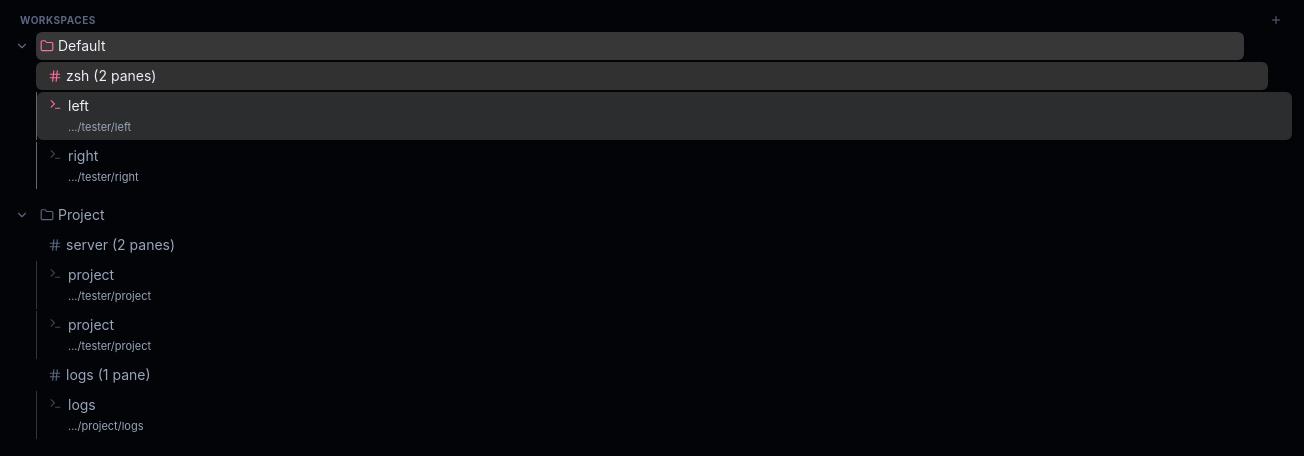
Test: WorkspacesView › Pane context menu (Create Tab from Pane) › shows an enabled action for a pane in a multi-pane tab
The width and height of the screenshot is (1304, 456).
// the non-active pane row is right-clicked.
Right-click the button "right .../tester/right" at (83, 155), box [37, 142, 1292, 189]
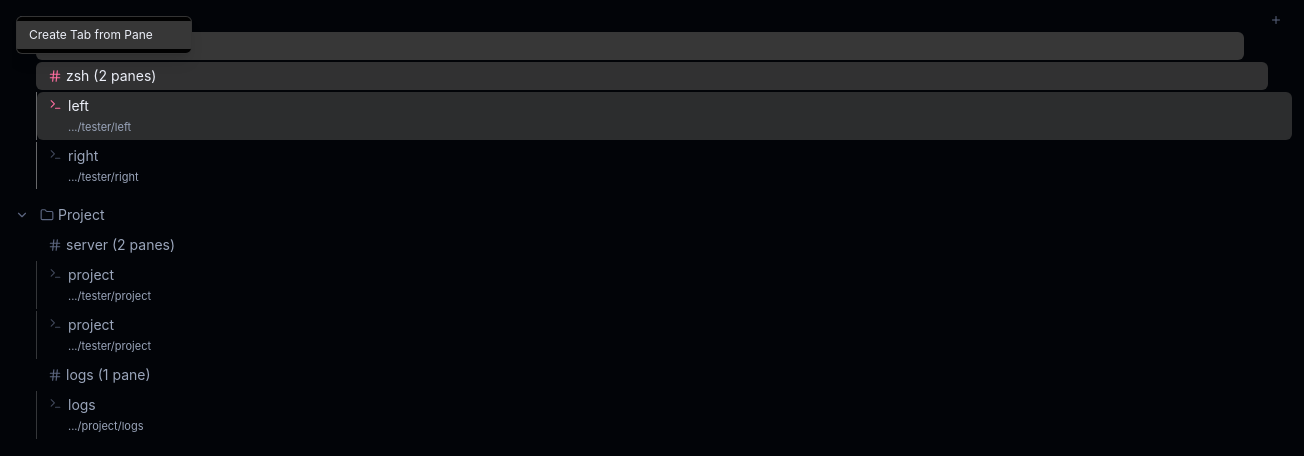
Check: the menu item "Create Tab from Pane" is enabled, box [17, 21, 191, 49]
